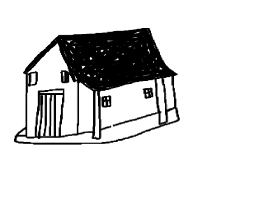closed_window: (96, 92, 116, 111), (141, 85, 158, 104)
door: (30, 85, 69, 140)
open_window: (22, 68, 43, 87)
shaded_roof: (11, 19, 186, 88)
wall: (71, 77, 187, 143)
